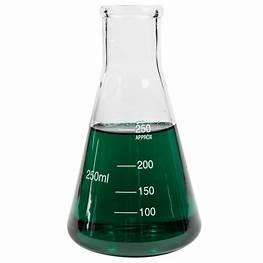Titrarion: (65, 5, 202, 257)
